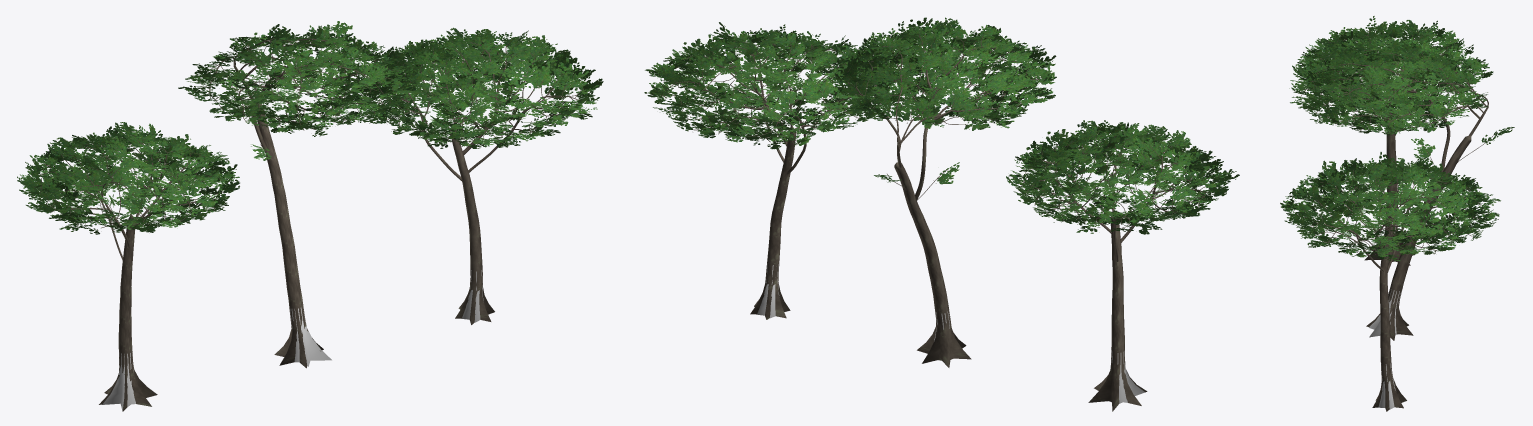
File: jungle_tree.gltf
The picture shows the model from 3 angles, left to right: view 1: azimuth 30°, elevation 25°; view 2: azimuth 150°, elevation 25°; view 3: azimuth 270°, elevation 25°; orthographic projection. The views are drawn at different scales.
Parts seen in each view (by area): view 1: JungleTree3_LOD0, JungleTree2_LOD0, JungleTree1_LOD0, JungleTree2_COL, JungleTree1_COL; view 2: JungleTree2_LOD0, JungleTree3_LOD0, JungleTree1_LOD0; view 3: JungleTree3_LOD0, JungleTree2_LOD0, JungleTree1_LOD0, JungleTree2_COL, JungleTree3_COL.
Part boxes in pixels (left/top/right/bottom): JungleTree3_LOD0: left=345, top=27, right=603, bottom=324; JungleTree2_LOD0: left=178, top=21, right=417, bottom=368; JungleTree1_LOD0: left=17, top=122, right=239, bottom=411; JungleTree2_COL: left=290, top=307, right=331, bottom=366; JungleTree1_COL: left=102, top=352, right=135, bottom=410; JungleTree2_LOD0: left=827, top=17, right=1056, bottom=367; JungleTree3_LOD0: left=644, top=22, right=895, bottom=319; JungleTree1_LOD0: left=1006, top=120, right=1239, bottom=411; JungleTree3_LOD0: left=1280, top=152, right=1500, bottom=411; JungleTree2_LOD0: left=1289, top=37, right=1514, bottom=340; JungleTree1_LOD0: left=1292, top=16, right=1493, bottom=265; JungleTree2_COL: left=1368, top=289, right=1401, bottom=337; JungleTree3_COL: left=1378, top=363, right=1395, bottom=409.
Size of what is drawn, in the model's own units: 48.82 by 26.42 by 21.27.
Materials: 2 (2 with a texture image).
